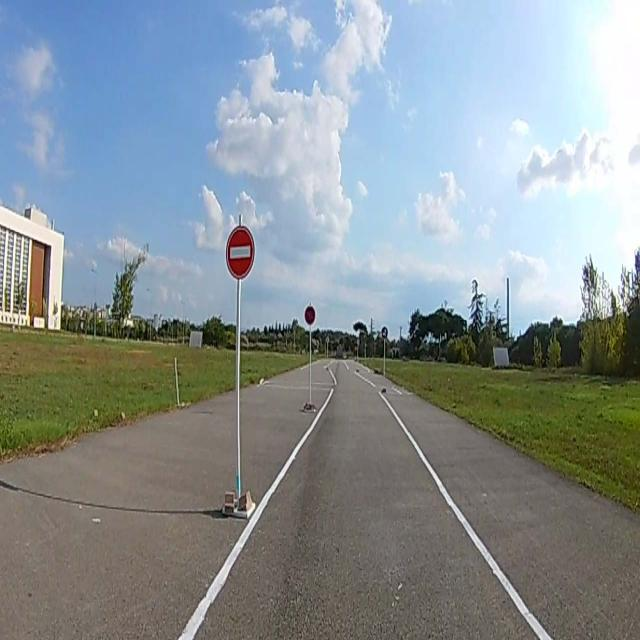girisyok: (226, 226, 254, 280)
